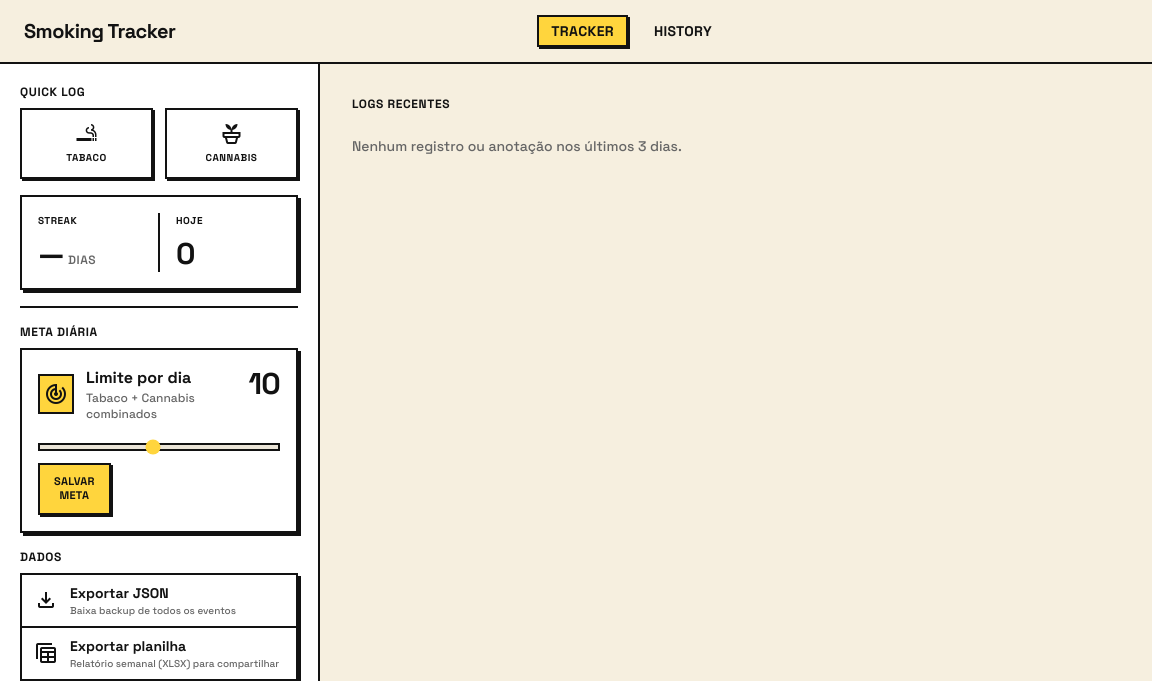
App navigation › switches to HistoryPage when history bottom nav button is clicked
Click the button "History": x=683, y=31 [640, 15, 726, 47]
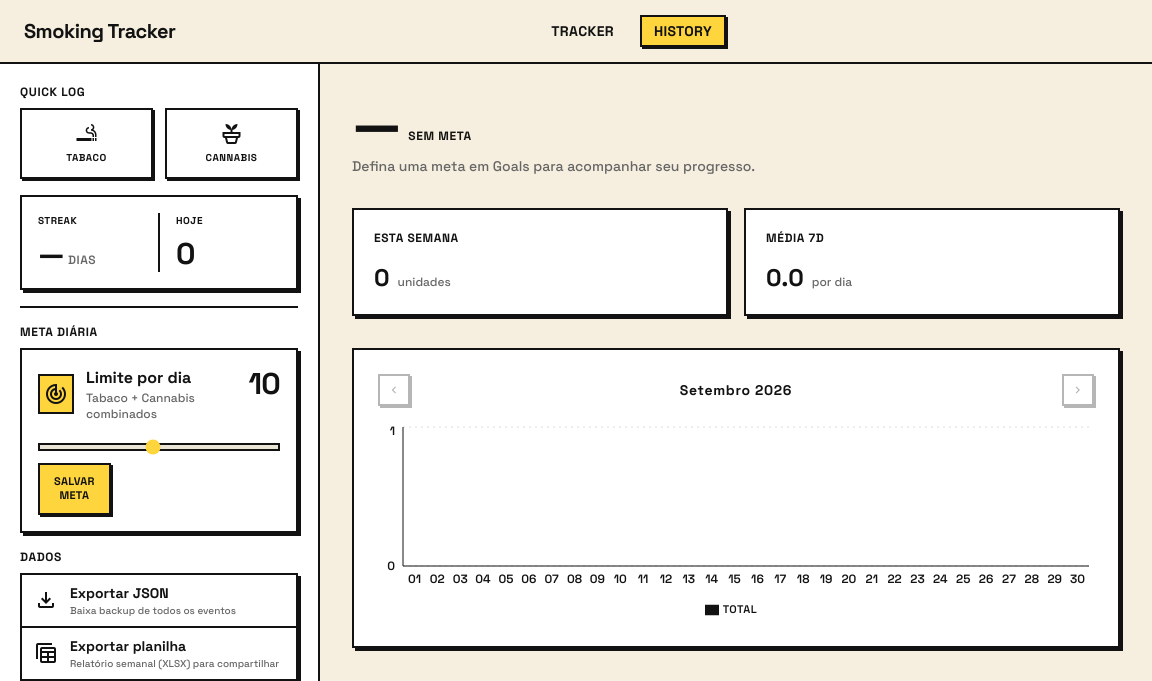
expect the text "sem meta" is shown: met, box [408, 128, 472, 144]
